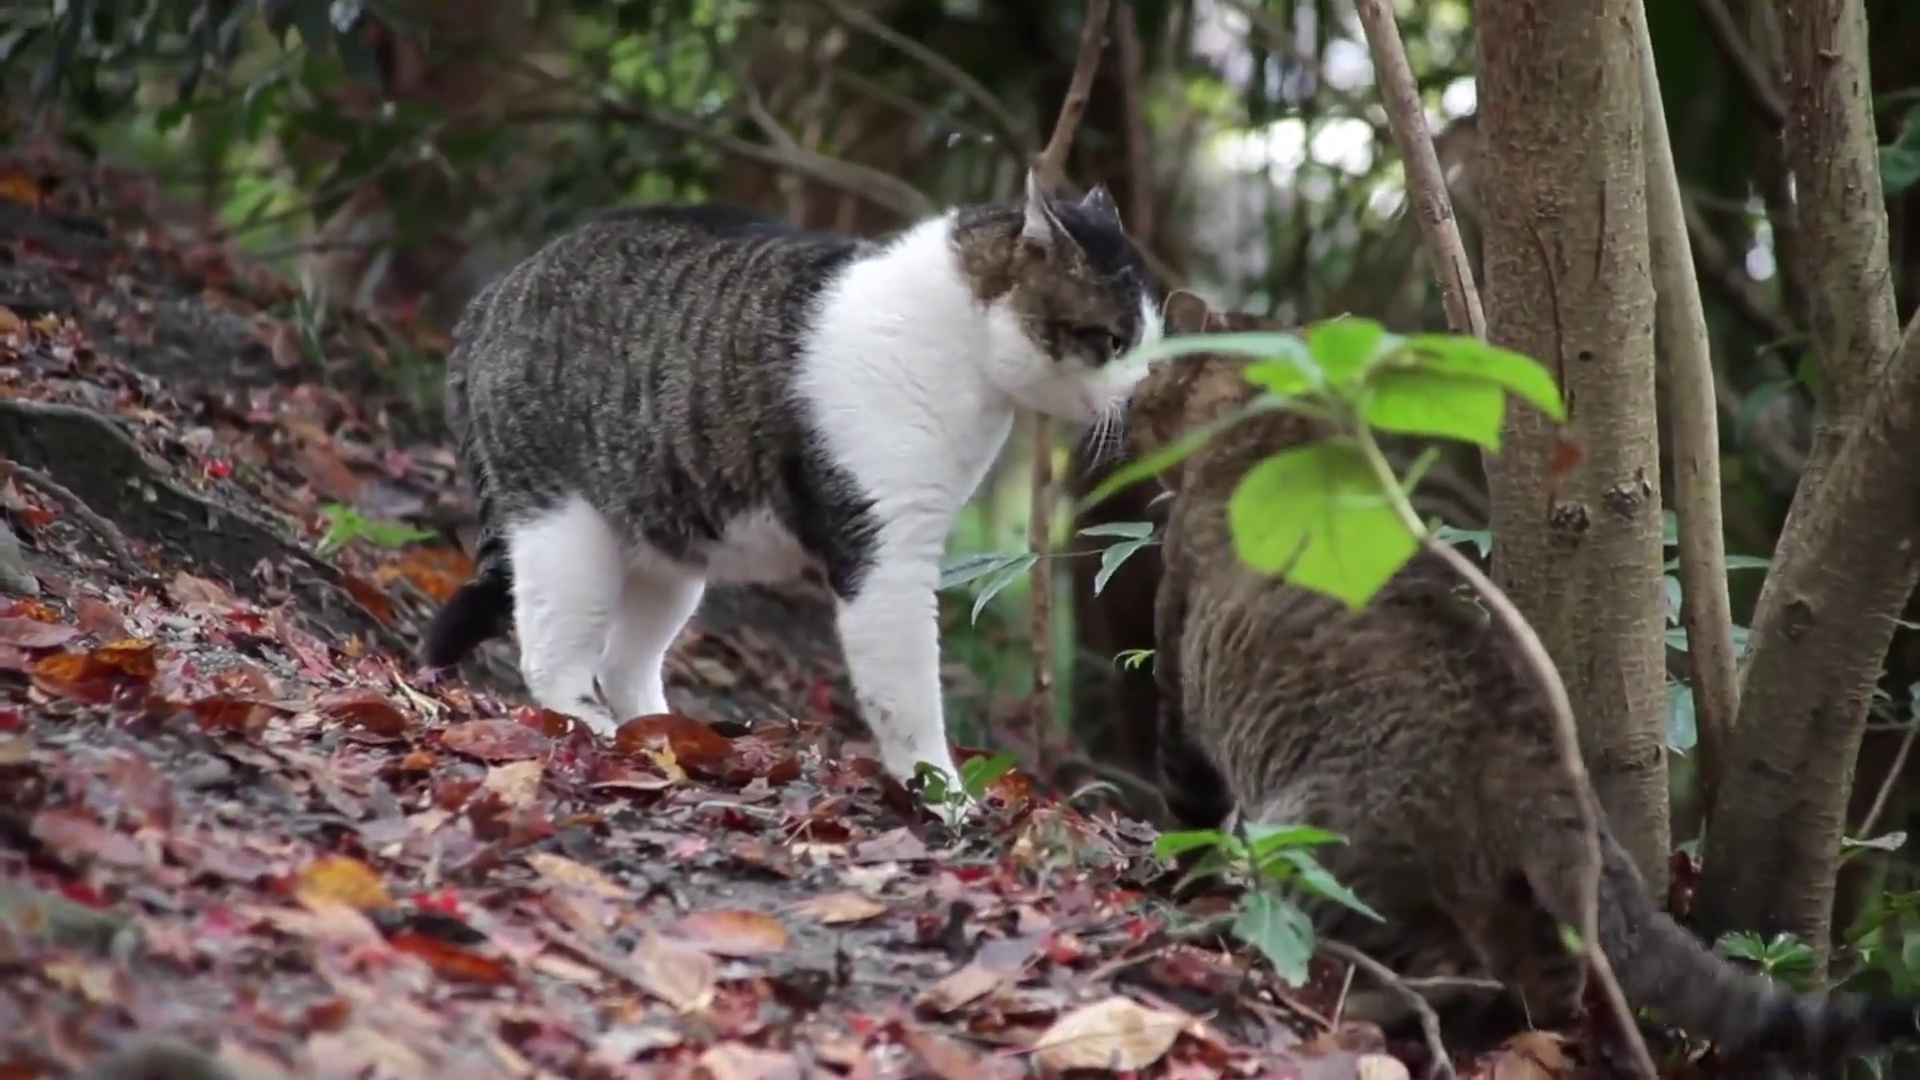black-white: (448, 166, 1145, 825)
pure black: (1127, 287, 1607, 949)
